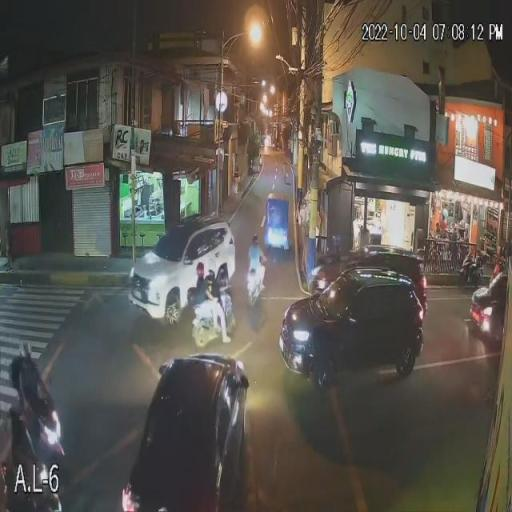helmet: (18, 339, 36, 364), (194, 260, 205, 278), (251, 234, 261, 243)
motorcycle: (2, 390, 70, 479), (186, 297, 240, 347), (245, 271, 262, 309)
rider: (195, 281, 231, 343), (7, 360, 49, 413), (248, 246, 266, 291)
